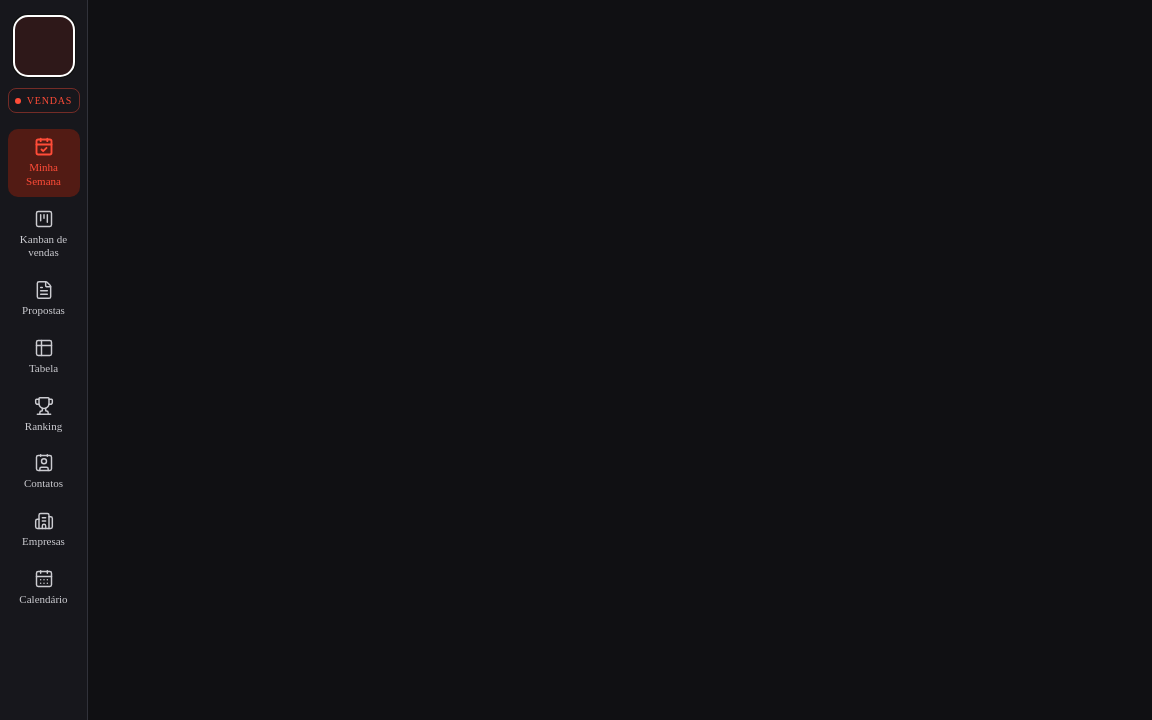
it: Gaveta › Esc fecha e devolve o foco ao ícone
Click the button named "Abrir menu de áreas" at (44, 46), box [14, 16, 74, 76]
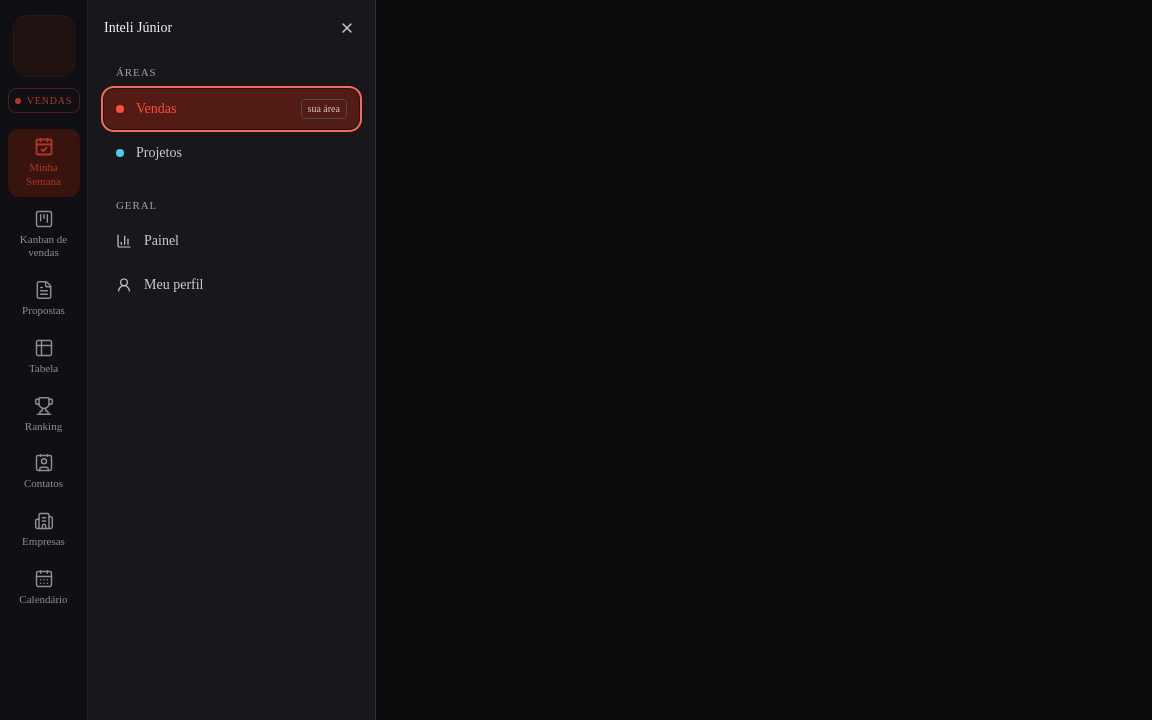
Press Escape in the dialog, box [88, 0, 376, 719]
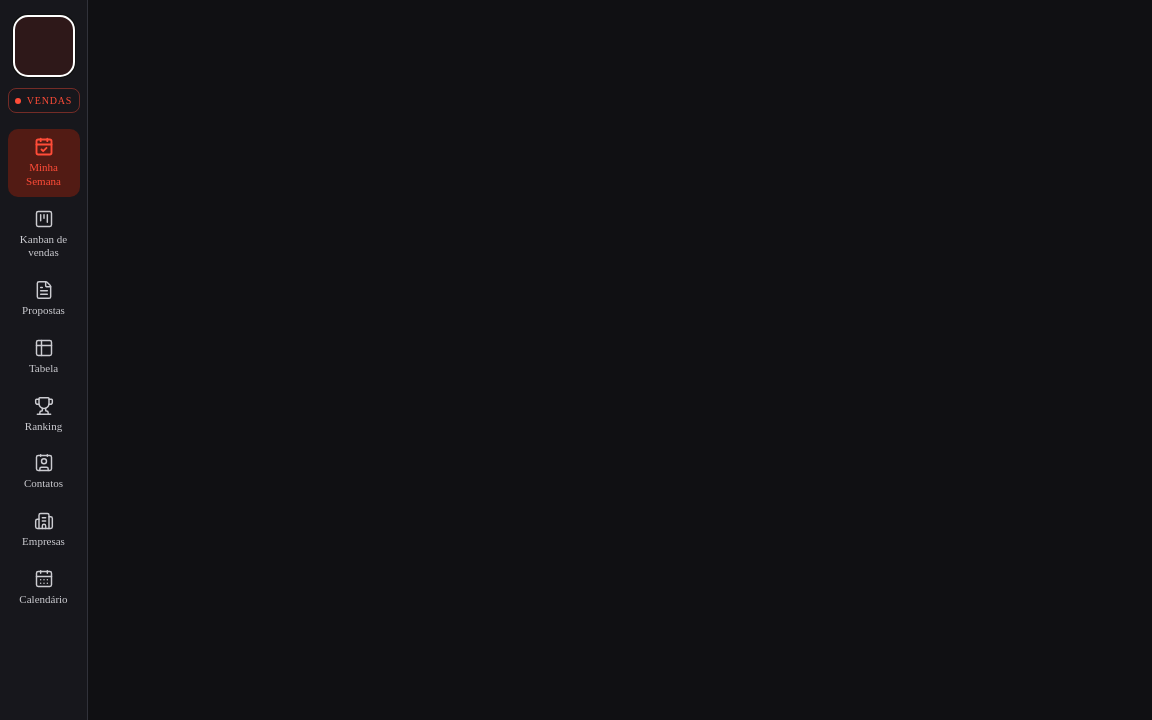
Result: the dialog is gone
